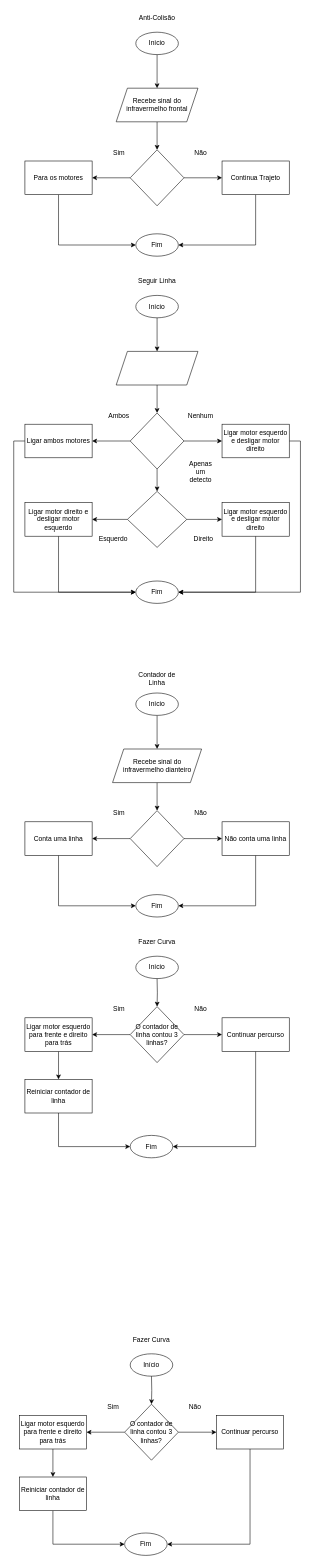
Image size: 315x1565. Some labels were removed from this diagram. The shapes that lost their labels are listed below. From the top down, each one's centre as x and y in pixels, then its label:
point 157,177: Tem obstáculo?
point 157,368: Recebe sinal dos infravermelhos frontais inferiores
point 157,440: Detectaram uma linha?
point 157,519: Qual dos infravermelhos?
point 157,838: Tem cruzamento?
